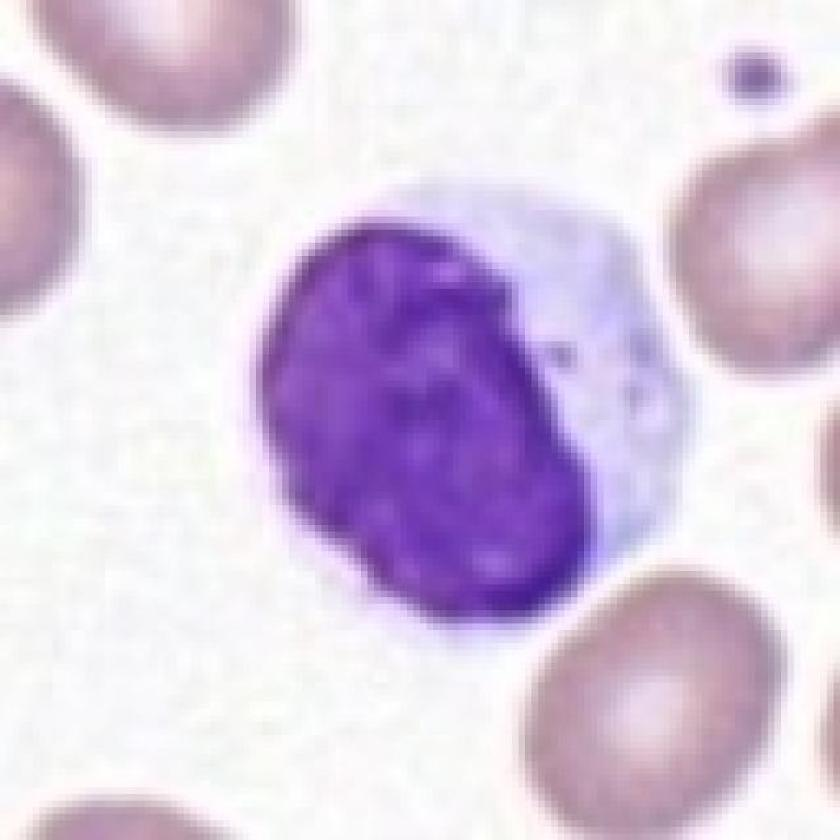lymphocyte: (255, 176, 700, 619)
